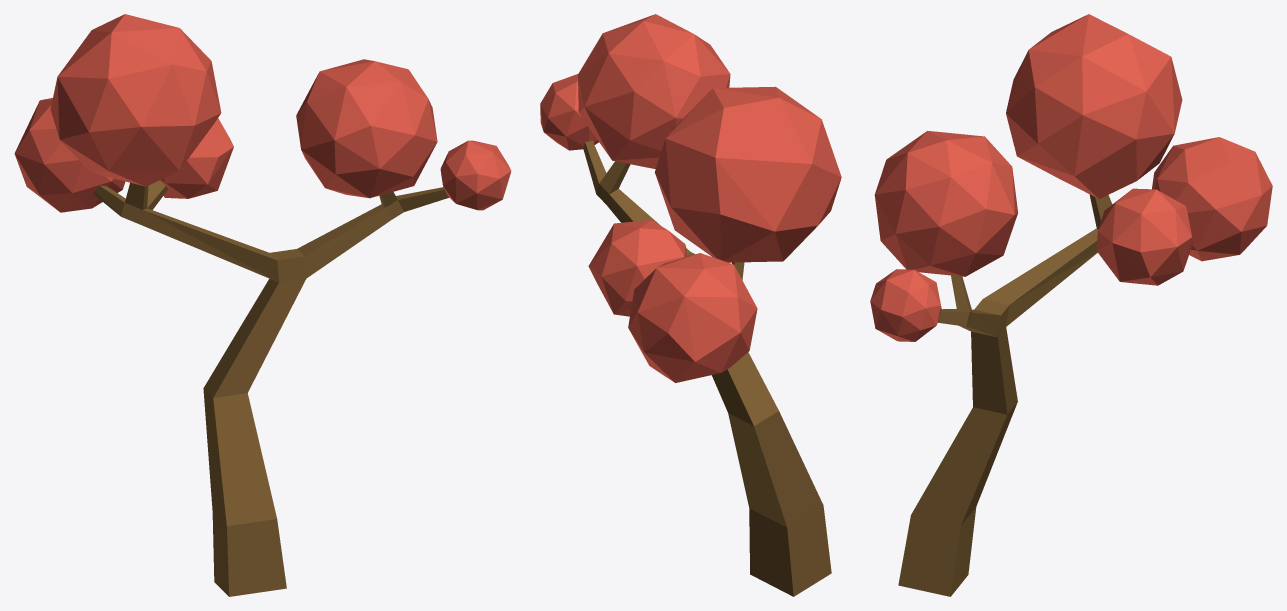
Rendered from tree1_00008.fbx.
The picture shows the model from 3 angles, left to right: view 1: azimuth 30°, elevation 25°; view 2: azimuth 150°, elevation 25°; view 3: azimuth 270°, elevation 25°; orthographic projection. The views are drawn at different scales.
Parts seen in each view (by area): view 1: tree1; view 2: tree1; view 3: tree1.
Part boxes in pixels (box(x1,y1,x2,y2)): tree1: box(14, 14, 511, 596); tree1: box(540, 14, 841, 596); tree1: box(870, 14, 1272, 596).
Bounding box in the file's own units: 807 × 1137 × 770.
